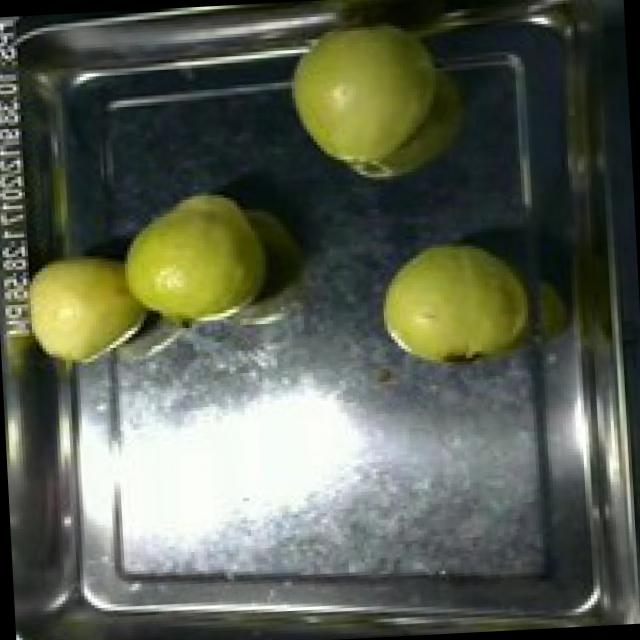Fruit: (282, 2, 454, 190), (111, 178, 279, 340), (368, 229, 540, 378), (0, 239, 162, 378)
